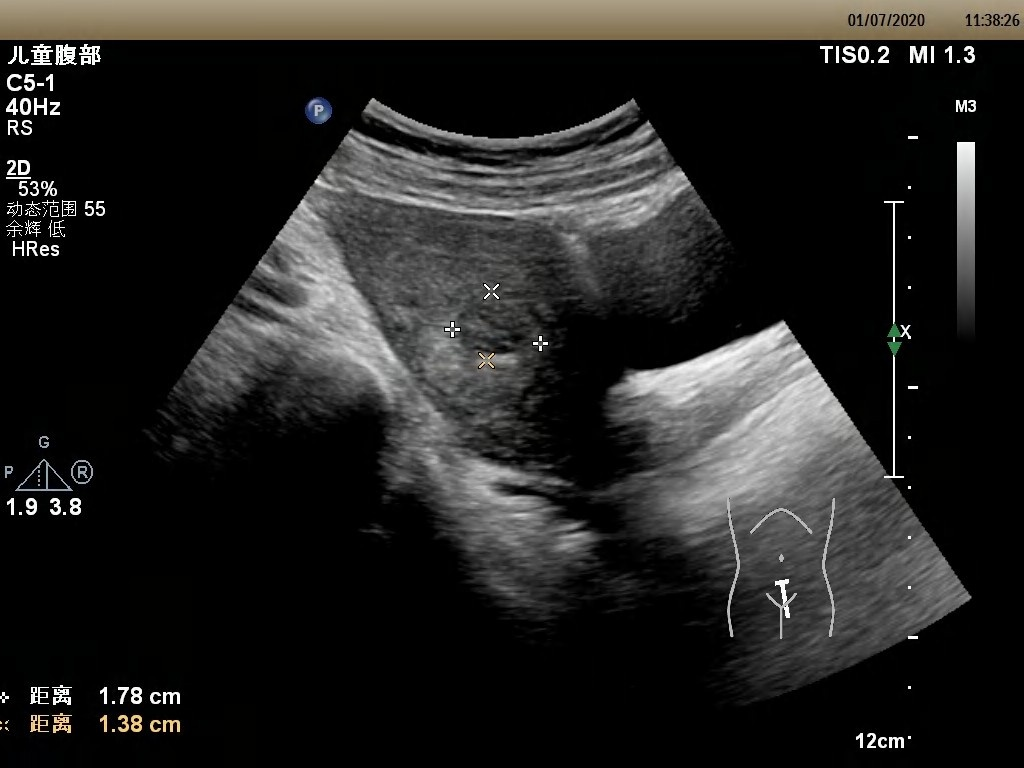肌瘤: (455, 296, 530, 351)
